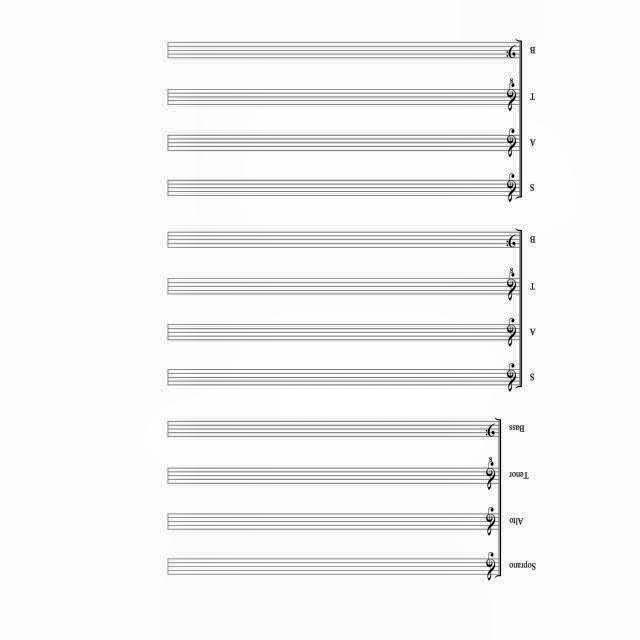Bass-clef: (488, 423, 497, 439), (508, 44, 516, 60), (508, 233, 516, 249)
Treble-clef: (506, 362, 518, 392), (484, 552, 496, 580), (507, 317, 518, 347), (507, 128, 518, 158), (486, 461, 496, 492), (507, 271, 517, 301), (507, 173, 517, 203), (507, 83, 517, 113), (485, 508, 495, 536)
